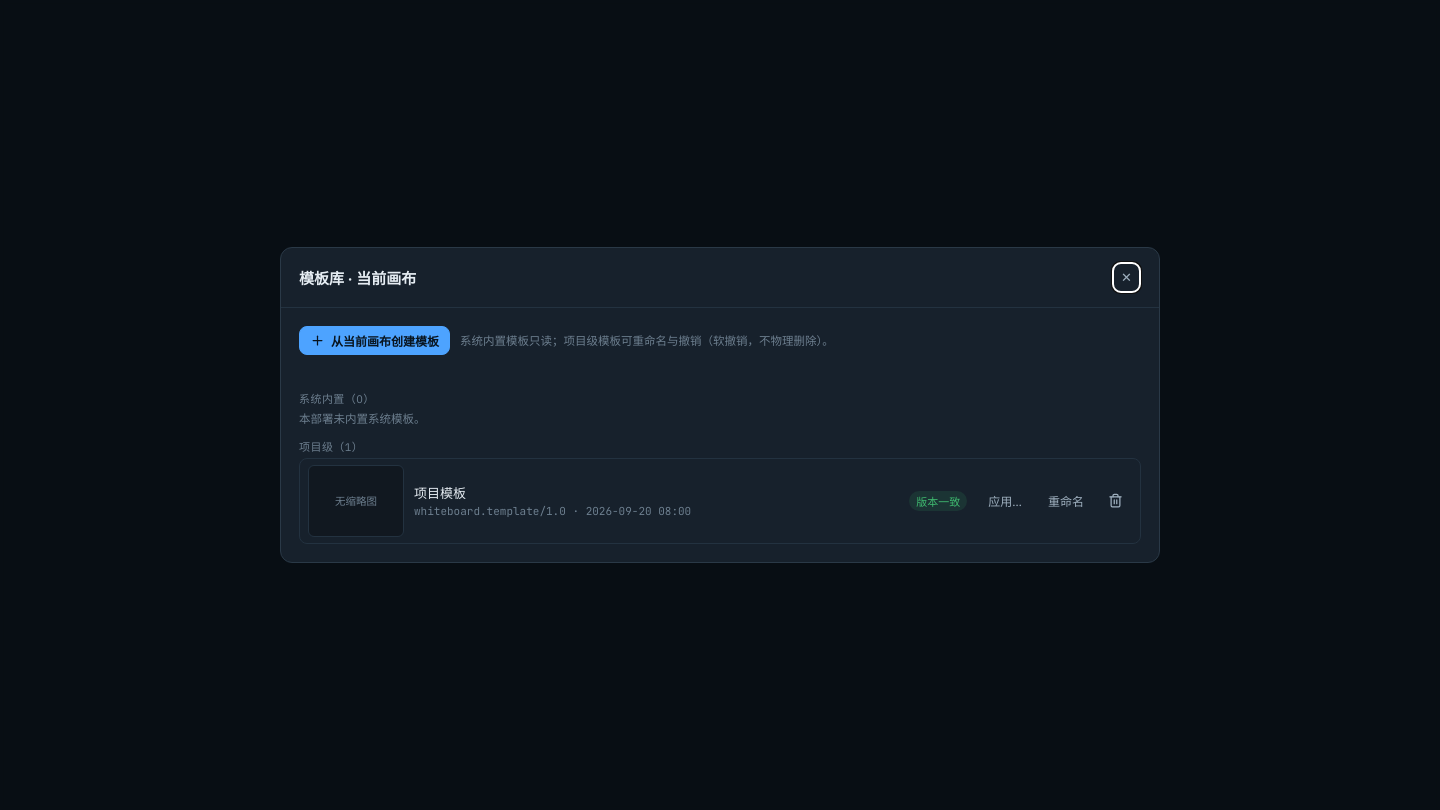
UI-TMP-03 应用确认与结果提示 › append 应用到目标画布并播报新增数量与缩略图
The image size is (1440, 810).
Click the button "应用…".
click(1005, 501)  # box left=977, top=486, right=1033, bottom=515
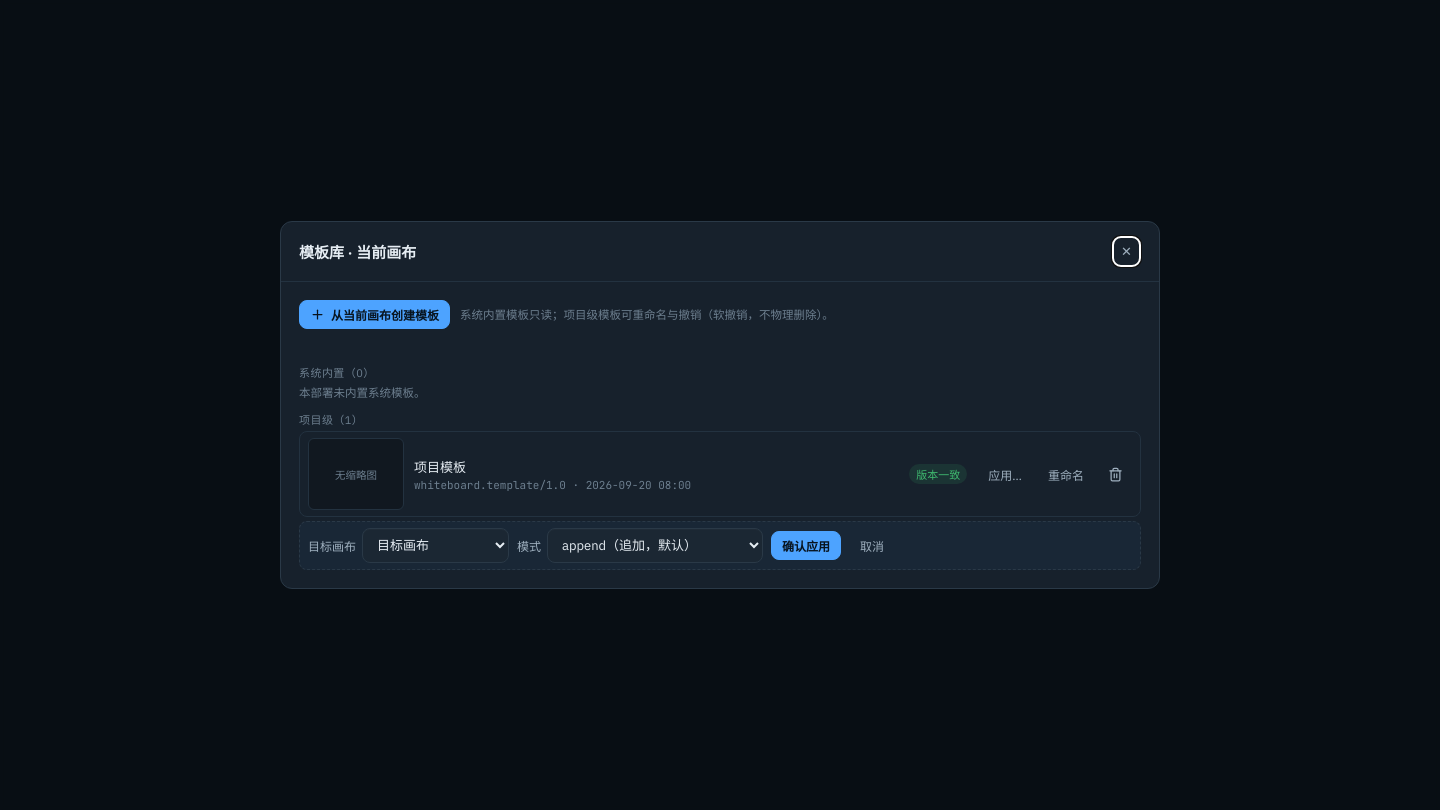
Now the element with class "template-apply" is shown, box left=299, top=521, right=1141, bottom=570
Select "目标画布" in the dropdown named "目标画布" at [436, 546], box left=362, top=528, right=509, bottom=563
Select "append（追加，默认）" in the dropdown named "应用模式" at [655, 546], box left=547, top=528, right=763, bottom=563
Click the button "确认应用".
click(806, 546)  # box left=771, top=531, right=841, bottom=560
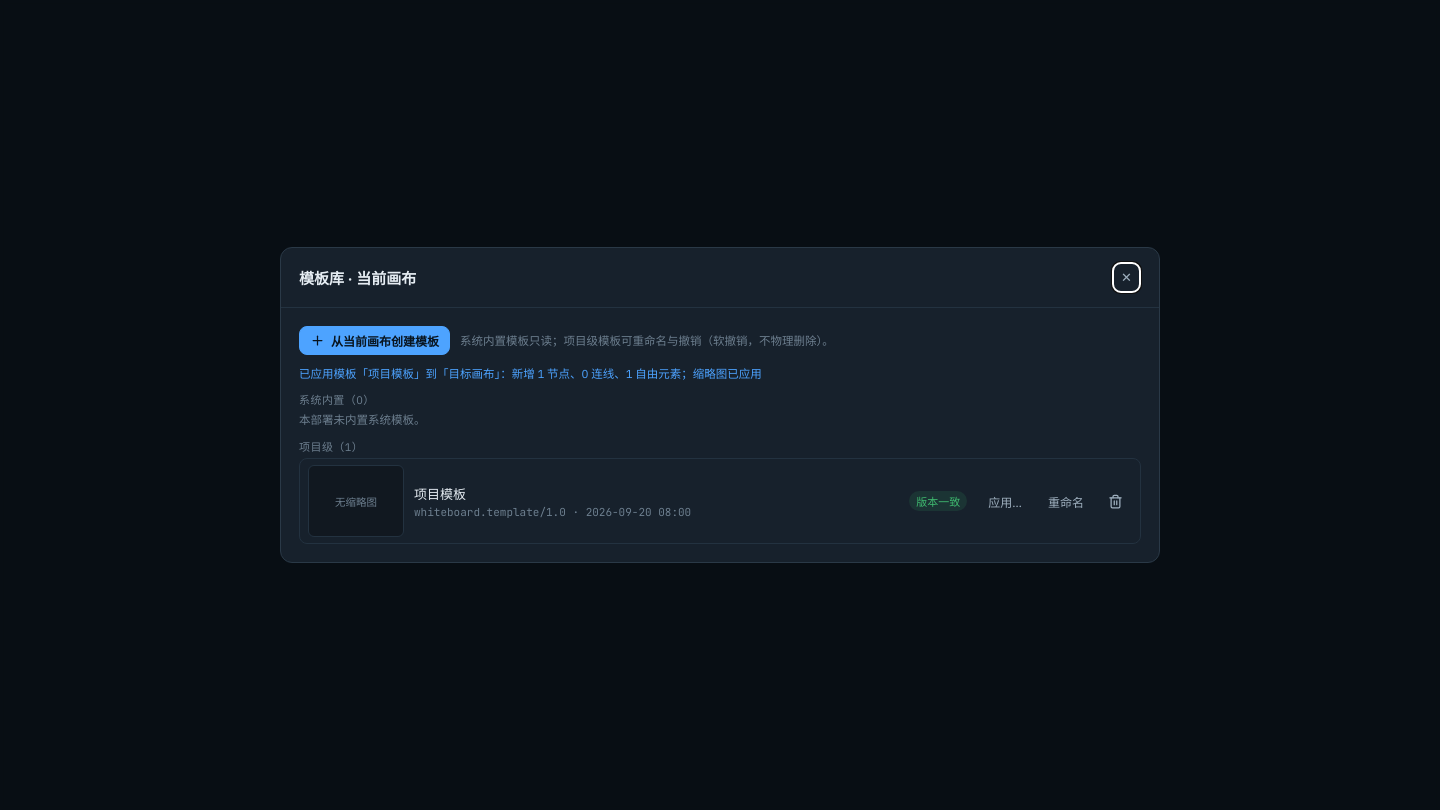
Now the message with class "layer-panel-status" shows "新增 1 节点、0 连线、1 自由元素", box left=299, top=366, right=762, bottom=381
Now the message with class "layer-panel-status" shows "缩略图已应用", box left=299, top=366, right=762, bottom=381
